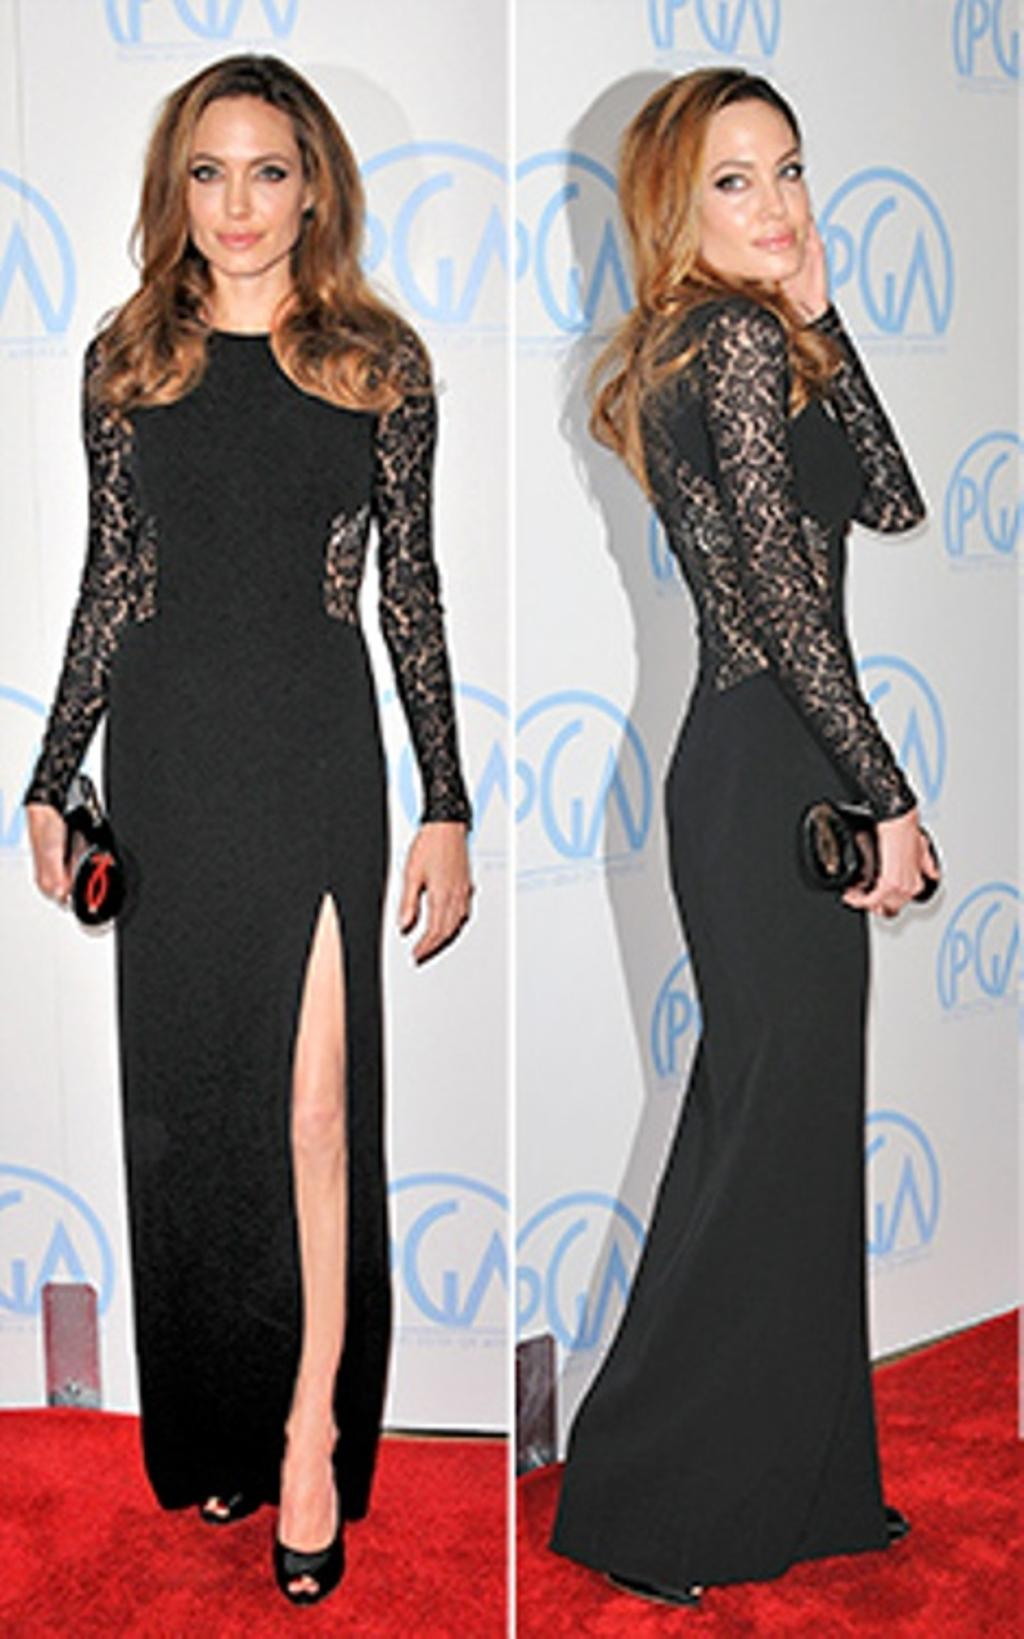face: (691, 102, 816, 281), (179, 93, 301, 272)
